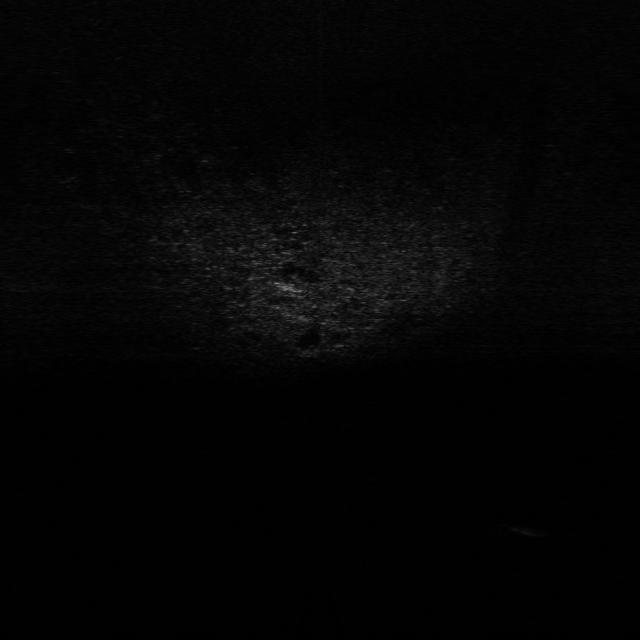cylinder: (498, 522, 553, 538)
